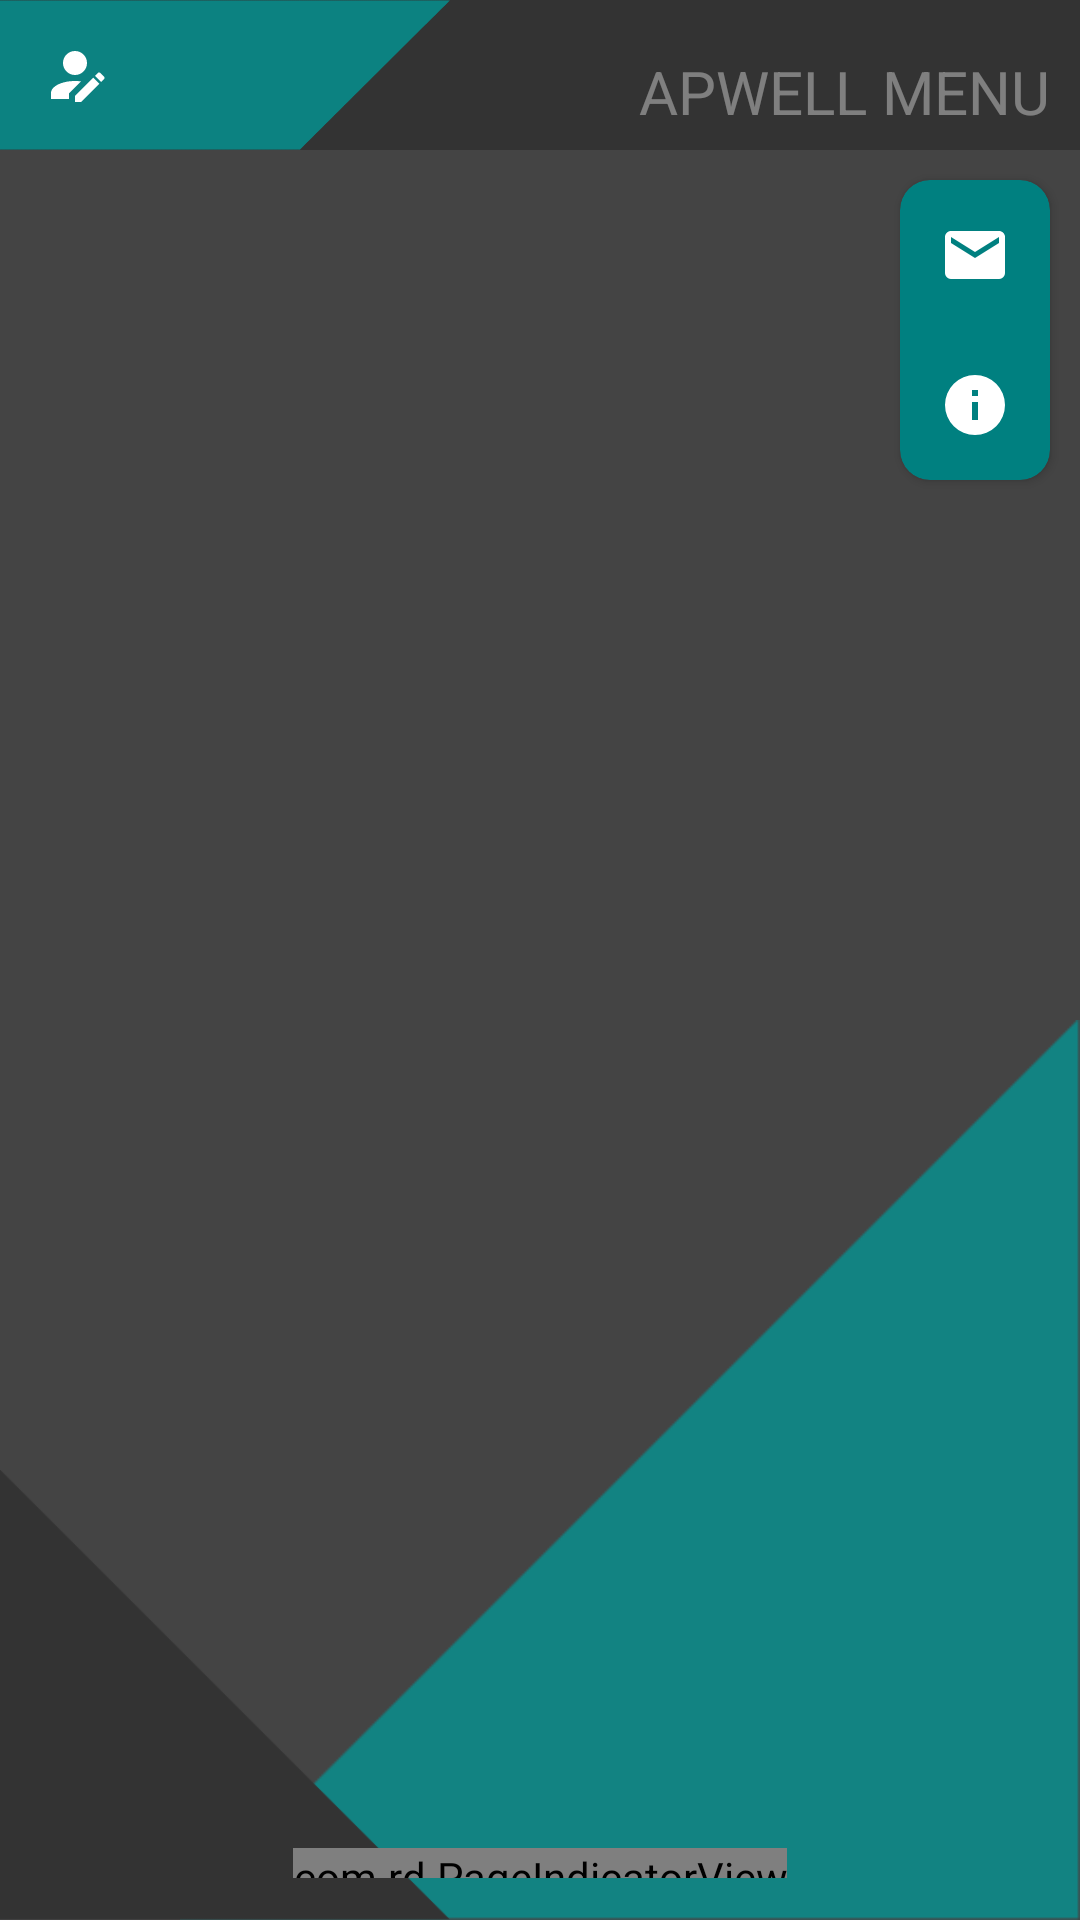

Icons on this 1080px×1920px Android screen, each with the point to tap as (x,y):
account edit: (75,75)
email: (975,255)
information: (975,405)
